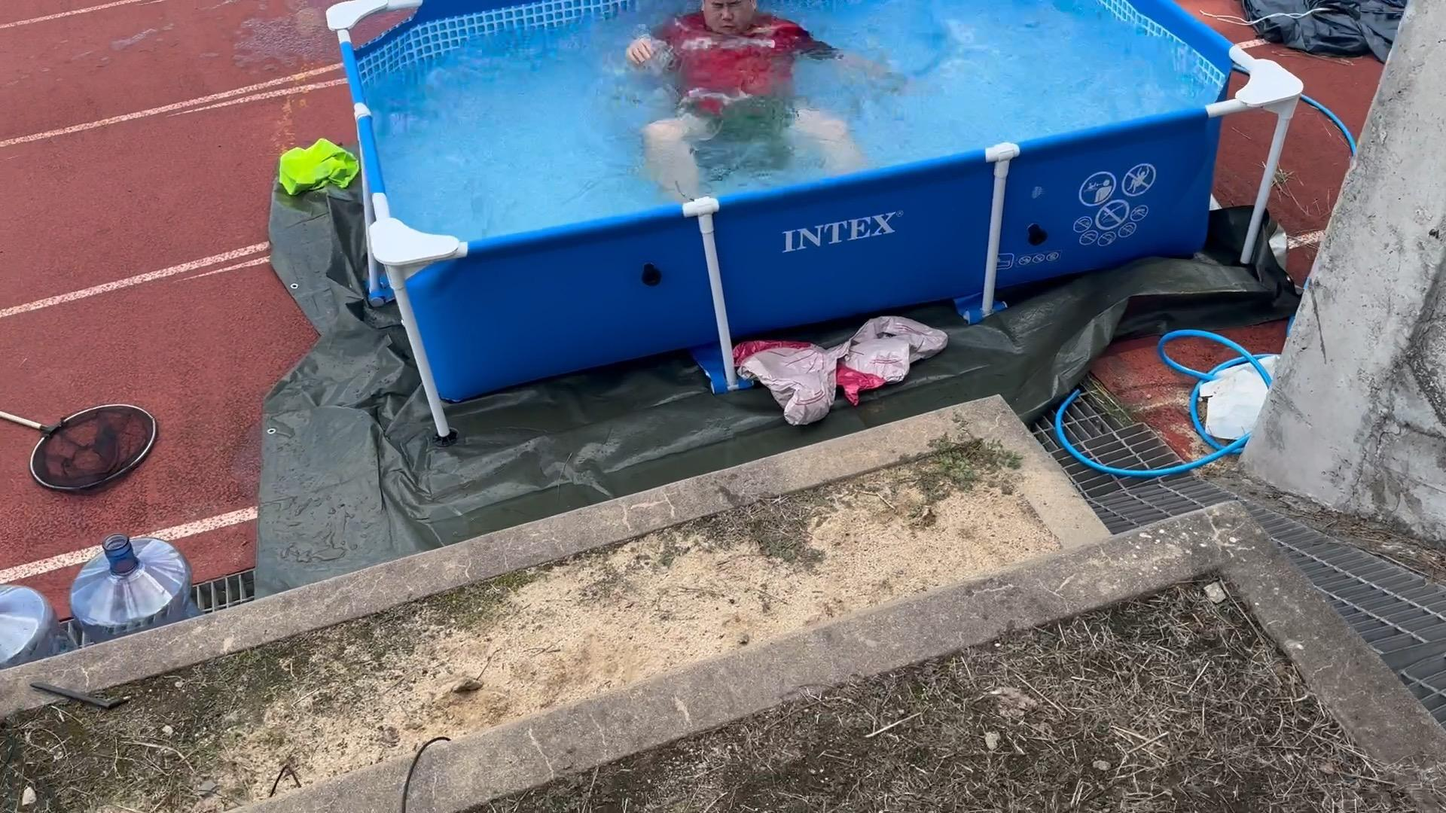Drowning: (578, 0, 897, 169)
